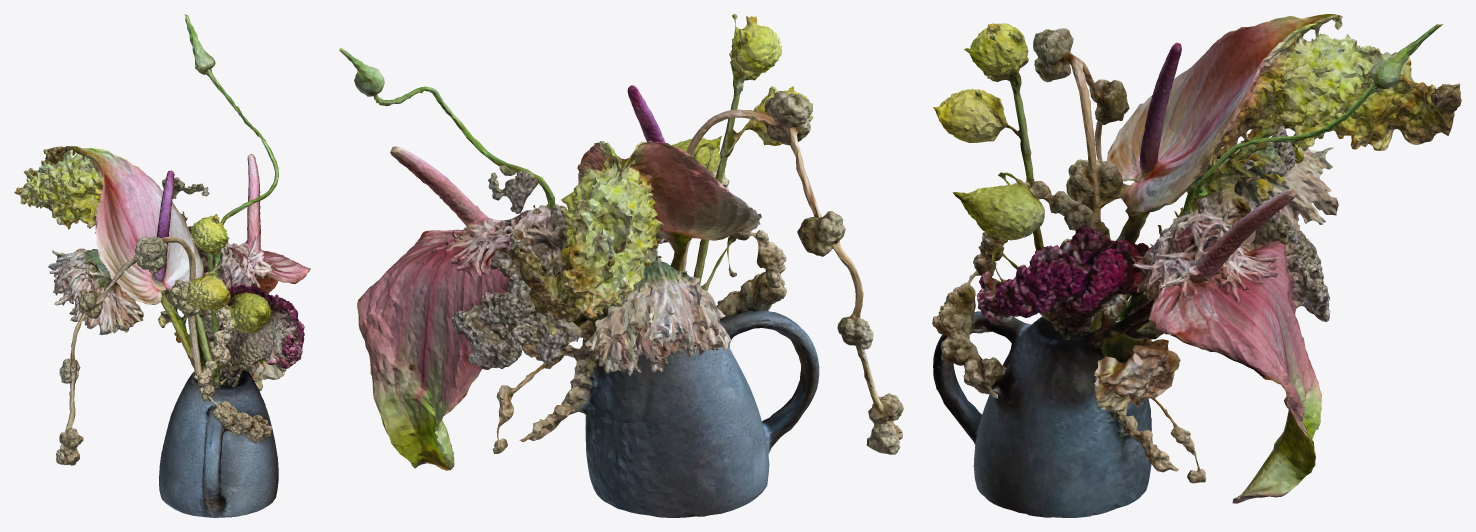
Rendered from flower2.glb.
3 views of the same model, side by side, from view 1: azimuth 30°, elevation 25°; view 2: azimuth 150°, elevation 25°; view 3: azimuth 270°, elevation 25° (orthographic). The views are drawn at different scales.
Size of the model in its own units: 0.3022 by 0.3503 by 0.3188.
1 material, 1 textured.
